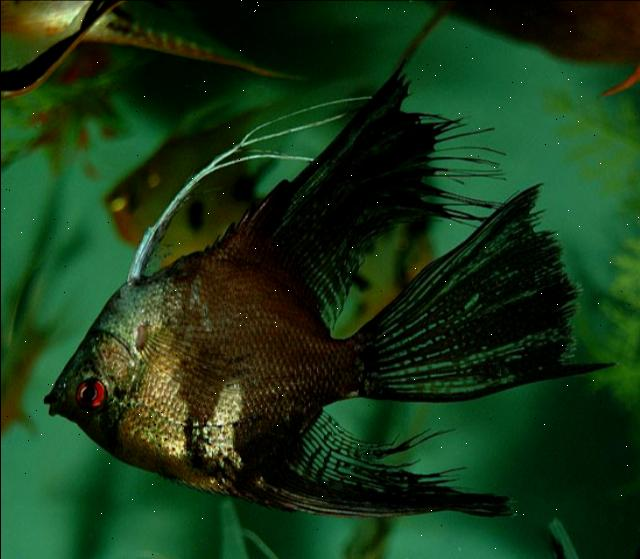Mulut: (15, 346, 80, 443)
Sirip Anal: (229, 81, 507, 321)
Sirip Dada: (127, 294, 249, 412)
Sirip Ekor: (342, 178, 620, 410)
Sirip Perut: (104, 57, 390, 295)
Sirip Punggung: (199, 398, 525, 540)
